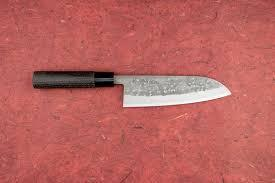Knife: (31, 69, 231, 107)
